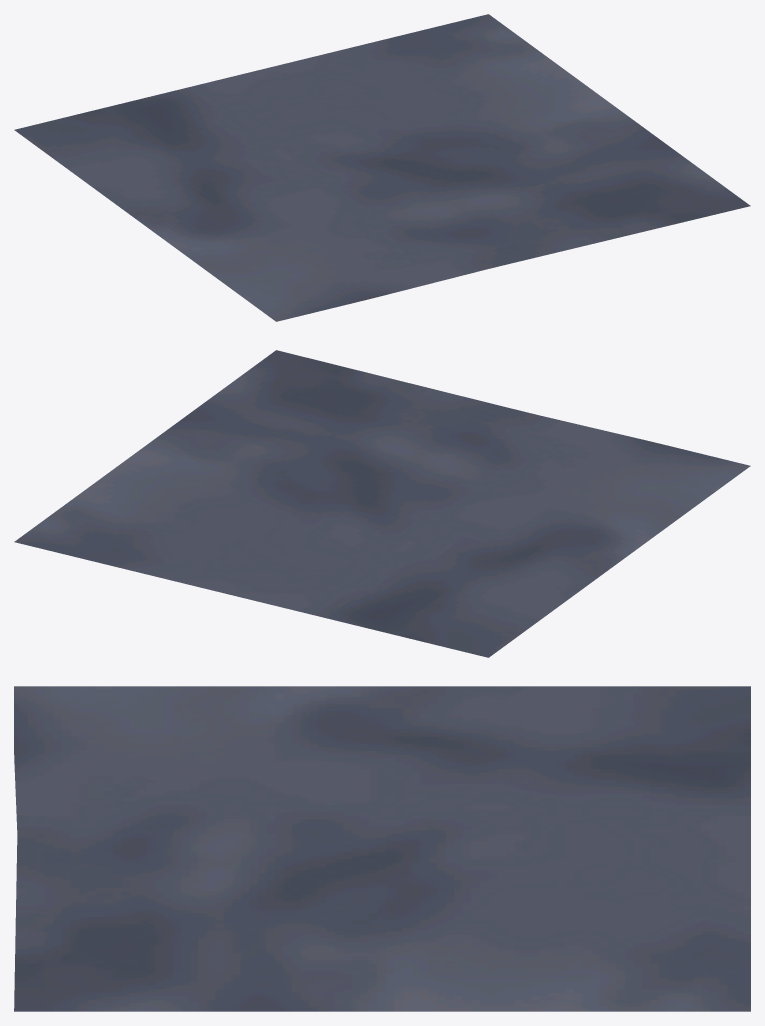
The model's file is WaterPlane_A.fbx.
The picture shows the model from 3 angles, top to bottom: view 1: azimuth 30°, elevation 25°; view 2: azimuth 150°, elevation 25°; view 3: azimuth 270°, elevation 25°; orthographic projection. The views are drawn at different scales.
Parts seen in each view (by area): view 1: SM_ENV_AMVLLG02_WaterPlane_A.mo; view 2: SM_ENV_AMVLLG02_WaterPlane_A.mo; view 3: SM_ENV_AMVLLG02_WaterPlane_A.mo.
Boxes of the visible parts, left/top/right/bottom form: SM_ENV_AMVLLG02_WaterPlane_A.mo: left=14, top=14, right=750, bottom=321; SM_ENV_AMVLLG02_WaterPlane_A.mo: left=14, top=350, right=750, bottom=657; SM_ENV_AMVLLG02_WaterPlane_A.mo: left=14, top=686, right=750, bottom=1011.
Bounding box in the file's own units: 31448 × 0.0051 × 30105.
